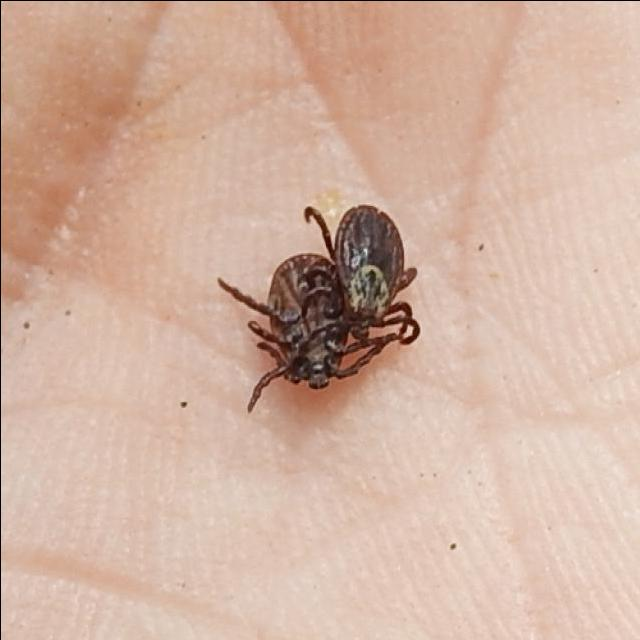Dermacentor Reticulatus-F: (298, 204, 419, 344)
